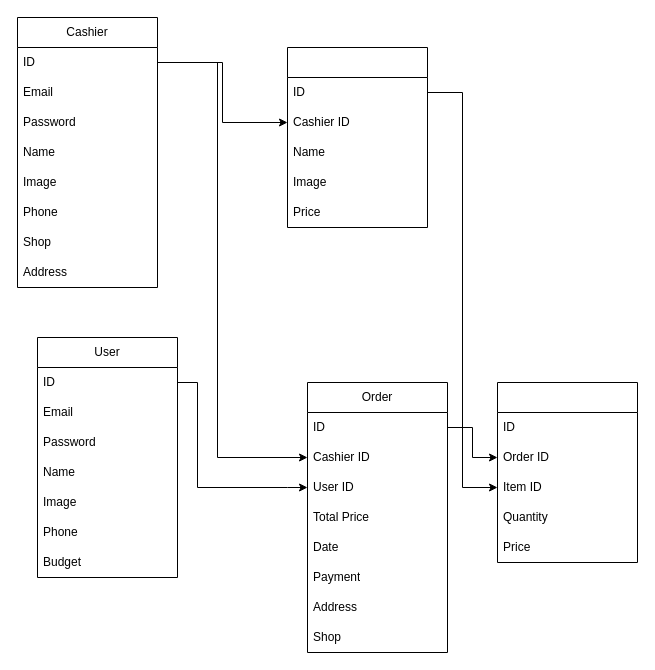
The diagram is 655 pixels wide and 670 high, and some of its shapes have lost their labels. The box of each missing label's shape, as (x1, y1, x2, y2) in pixels:
Detail Order: (496, 382, 638, 562)
Item: (286, 46, 428, 228)
